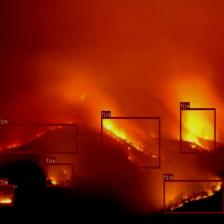fire: (101, 116, 160, 168), (0, 123, 77, 153), (164, 180, 224, 213), (180, 108, 215, 153), (46, 163, 73, 186), (0, 184, 13, 205)
